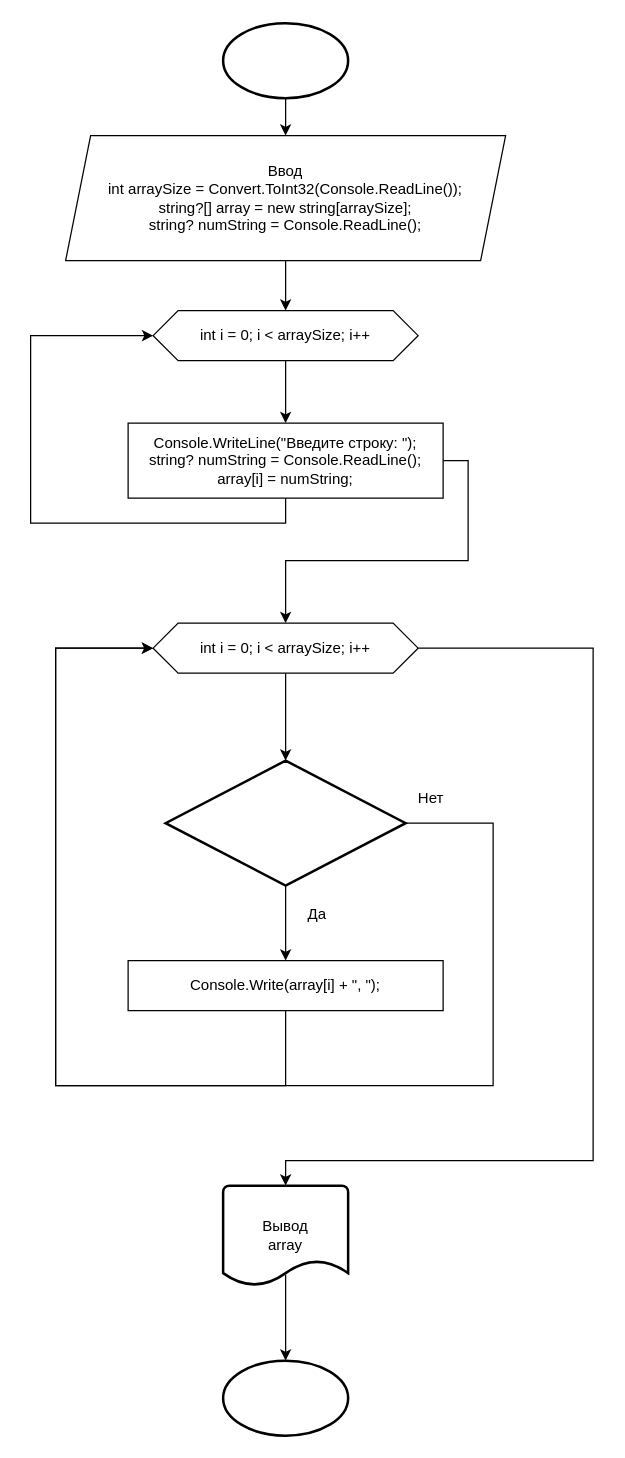
Some shapes in this 625 by 1458 pixel diagram are drawn without their labels. Each missing label, with the centre of its shape:
array[i]?.Length <= 3: (x=285, y=822)
Конец: (x=285, y=1397)
Начало: (x=285, y=60)
